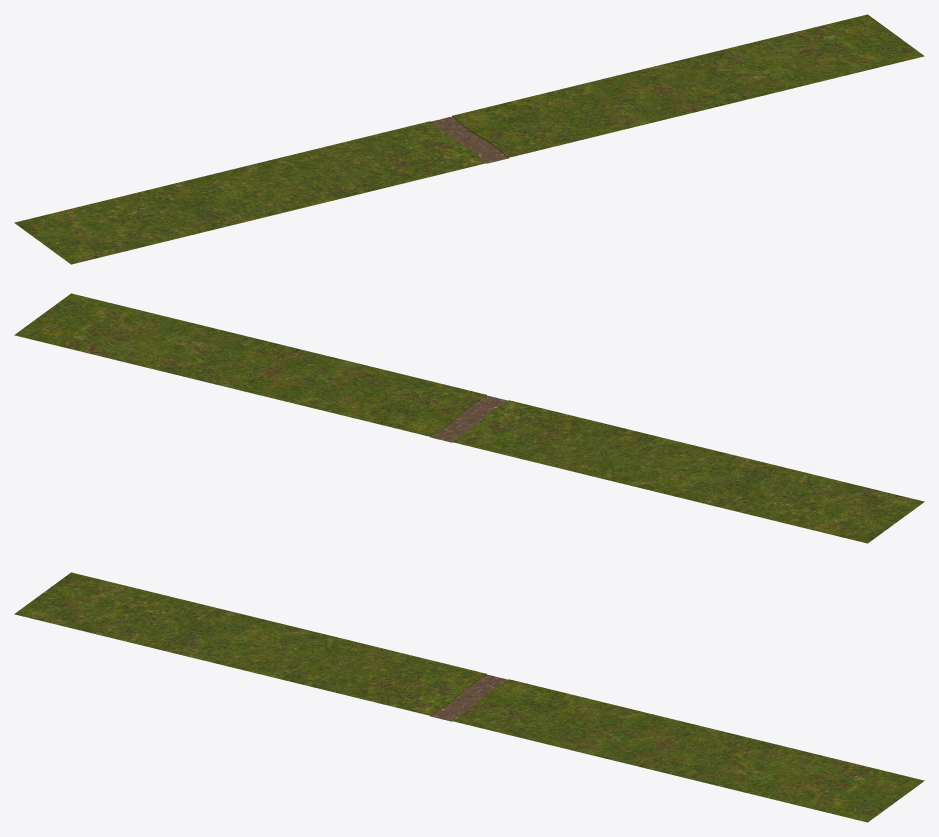
File: Floor3.glb
The picture shows the model from 3 angles, top to bottom: view 1: azimuth 30°, elevation 25°; view 2: azimuth 150°, elevation 25°; view 3: azimuth 330°, elevation 25°; orthographic projection.
Visible parts, largest first — view 1: Caminho3; view 2: Caminho3; view 3: Caminho3.
Part boxes in pixels (x1,y1,x2,y2): Caminho3: (14,14,924,264); Caminho3: (14,293,924,543); Caminho3: (14,572,924,822).
Bounding box in the file's own units: 17.24 × 0.0118 × 2.
2 materials, 2 textured.
